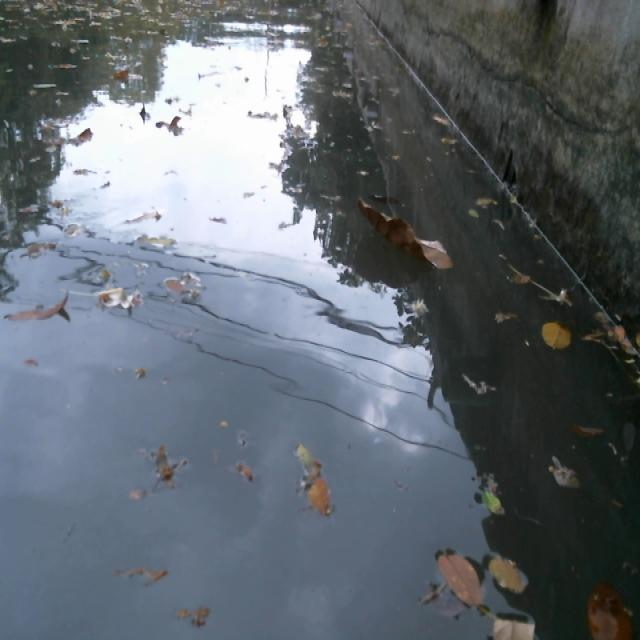Big-leaf: (353, 193, 457, 273)
Small-leaf: (586, 573, 640, 640), (432, 546, 486, 610), (483, 542, 535, 597), (2, 291, 74, 325), (109, 556, 171, 583), (301, 474, 339, 517), (94, 281, 145, 312), (491, 607, 538, 640), (537, 314, 575, 354), (477, 482, 511, 519), (544, 462, 584, 492), (153, 112, 187, 133), (138, 236, 178, 253), (68, 124, 98, 146), (236, 457, 259, 484), (572, 418, 602, 438), (109, 63, 135, 86), (295, 437, 313, 468), (505, 270, 536, 288), (162, 274, 188, 294), (15, 201, 45, 217), (429, 109, 454, 128), (124, 485, 148, 501), (438, 131, 461, 147), (65, 217, 82, 238), (472, 193, 496, 206), (468, 205, 479, 217)
